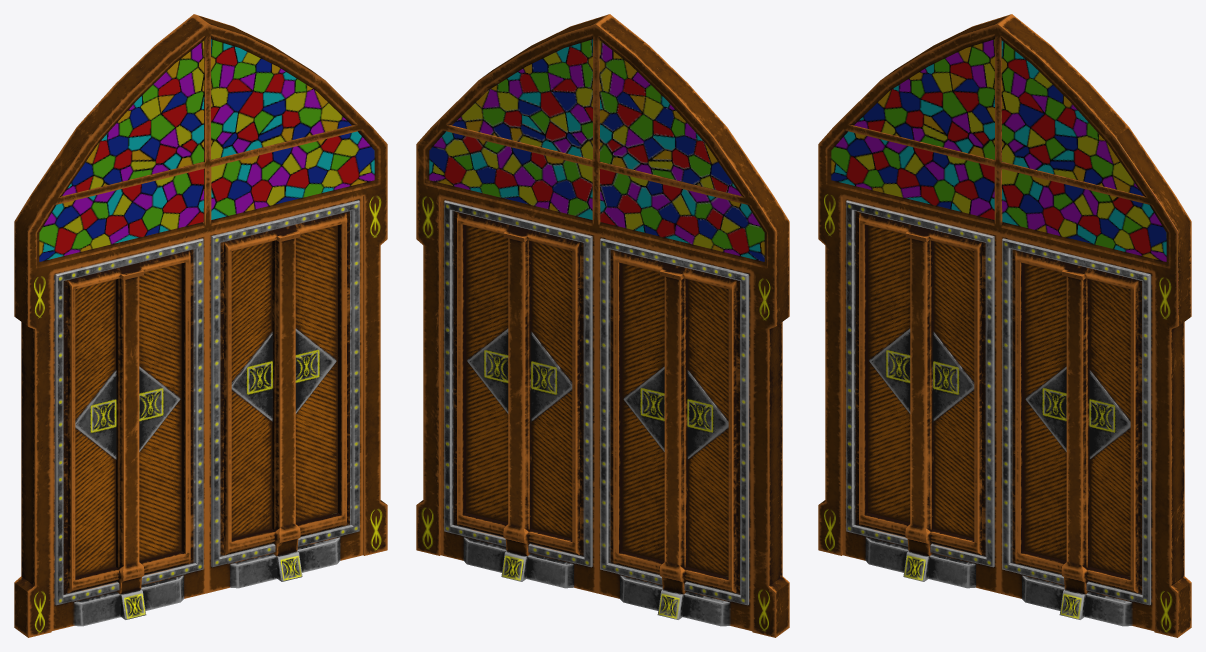
File: بوابة_العبور.glb
3 views of the same model, side by side, from view 1: azimuth 30°, elevation 25°; view 2: azimuth 150°, elevation 25°; view 3: azimuth 330°, elevation 25° (orthographic).
Parts seen in each view (by area): view 1: Door_Arch_Material #13_0, Door_R_Material #13_0, Door_L_Material #13_0; view 2: Door_Arch_Material #13_0, Door_R_Material #13_0, Door_L_Material #13_0; view 3: Door_Arch_Material #13_0, Door_L_Material #13_0, Door_R_Material #13_0.
Part boxes in pixels (<box>): Door_Arch_Material #13_0: <box>14,14,387,637</box>; Door_R_Material #13_0: <box>207,196,363,593</box>; Door_L_Material #13_0: <box>51,234,206,630</box>; Door_Arch_Material #13_0: <box>416,14,789,637</box>; Door_R_Material #13_0: <box>440,196,596,593</box>; Door_L_Material #13_0: <box>597,234,752,630</box>; Door_Arch_Material #13_0: <box>818,14,1191,637</box>; Door_L_Material #13_0: <box>842,196,998,593</box>; Door_R_Material #13_0: <box>999,234,1154,630</box>.
Bounding box in the file's own units: 3.45 × 5.23 × 0.4491.
1 material, 1 textured.
